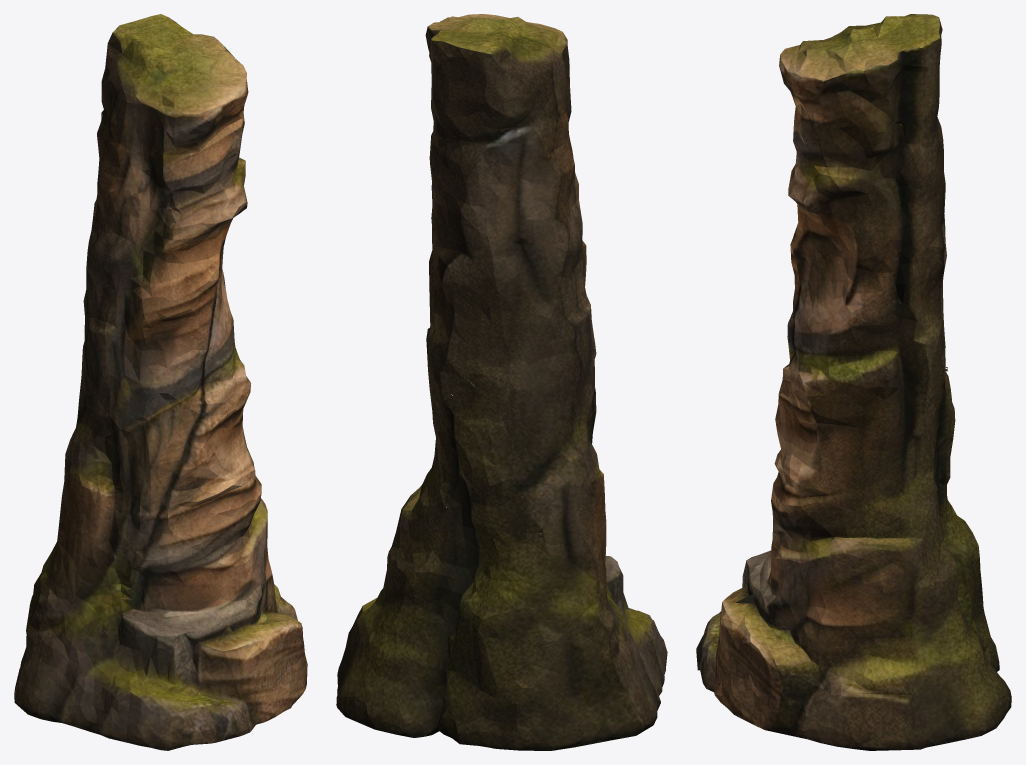
File: jungle_rockspire_1116.glb
3 renders of one model, left to right at view 1: azimuth 30°, elevation 25°; view 2: azimuth 150°, elevation 25°; view 3: azimuth 270°, elevation 25°, orthographic. The views are drawn at different scales.
Parts seen in each view (by area): view 1: world; view 2: world; view 3: world.
Part boxes in pixels (<box>): world: <box>14,14,307,750</box>; world: <box>336,14,667,750</box>; world: <box>696,14,1011,750</box>.
Bounding box in the file's own units: 0.4548 × 1 × 0.431.
1 material, 1 textured.
